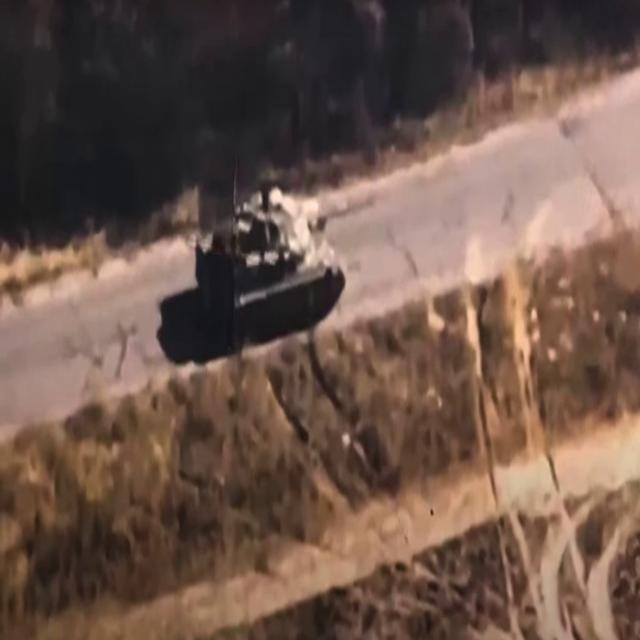MBT: (193, 170, 381, 357)
